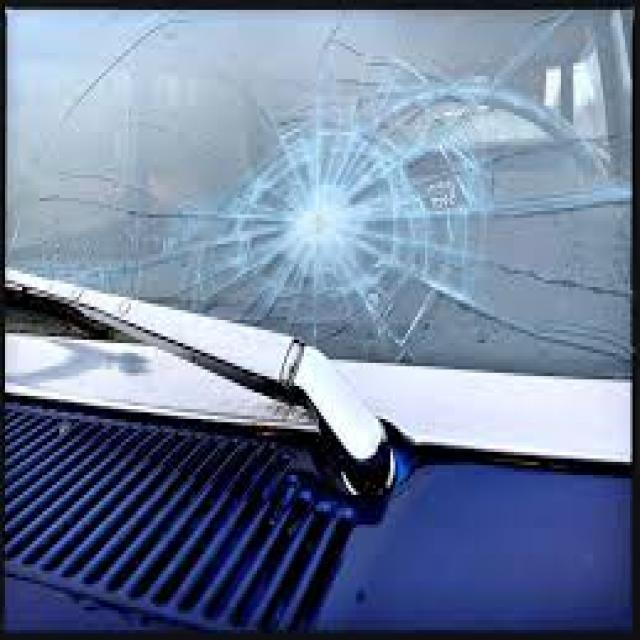damaged-windscreen: (7, 2, 640, 428)
